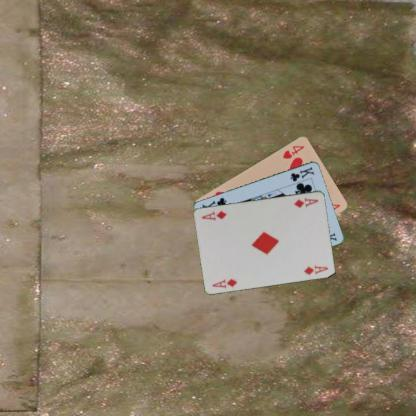4h: (281, 142, 306, 160)
Ad: (209, 276, 238, 290), (292, 195, 320, 209)
Kc: (288, 164, 316, 183)
